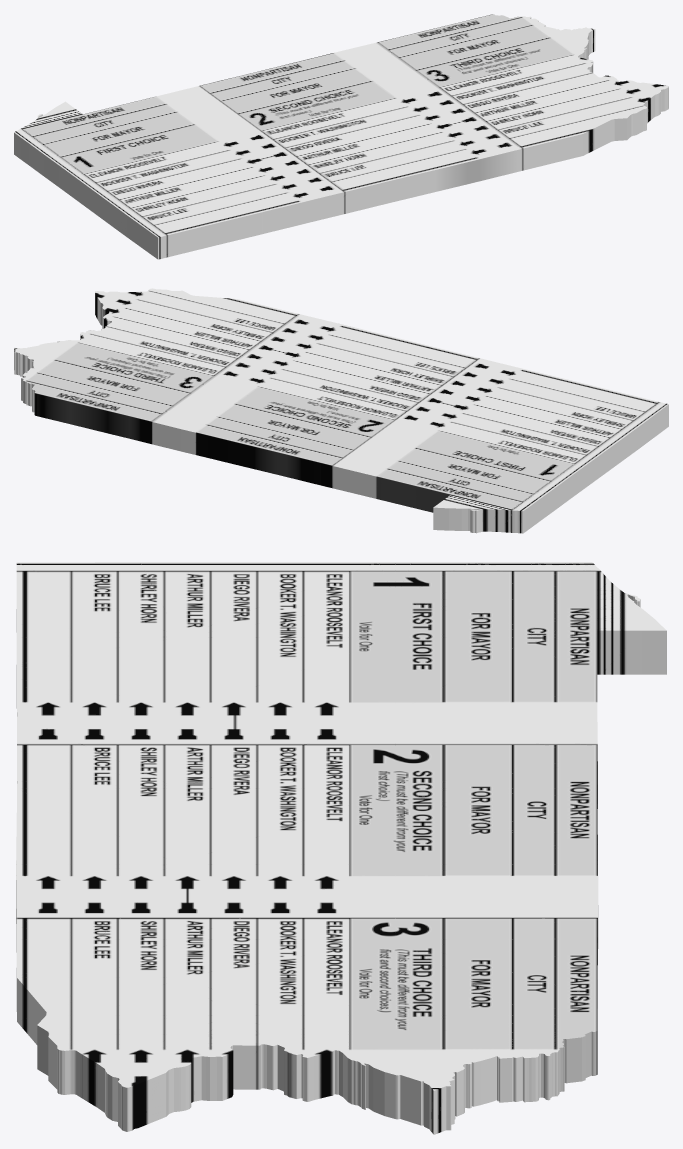
The model's file is pennsylvania.obj.
The picture shows the model from 3 angles, top to bottom: view 1: azimuth 30°, elevation 25°; view 2: azimuth 150°, elevation 25°; view 3: azimuth 270°, elevation 25°; orthographic projection. The views are drawn at different scales.
Parts seen in each view (by area): view 1: planarTrimmedSurface1; view 2: planarTrimmedSurface1; view 3: planarTrimmedSurface1.
Part boxes in pixels (x1=…): planarTrimmedSurface1: x1=14, y1=14, x2=668, y2=259; planarTrimmedSurface1: x1=14, y1=288, x2=668, y2=533; planarTrimmedSurface1: x1=16, y1=562, x2=666, y2=1134.
Size of the model in its own units: 15.19 by 0.5907 by 7.9.
1 material, 1 textured.
